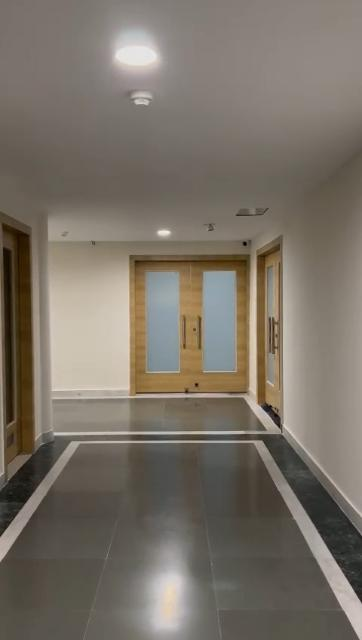door: (127, 256, 247, 394), (3, 211, 32, 464), (258, 252, 282, 413)
floor: (0, 399, 362, 639)
wall: (281, 157, 362, 508), (43, 234, 125, 386)
